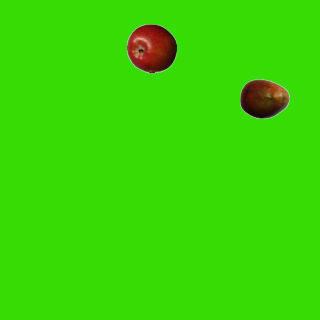Apple Braeburn: (126, 23, 176, 73)
Mango Red: (239, 73, 289, 123)
